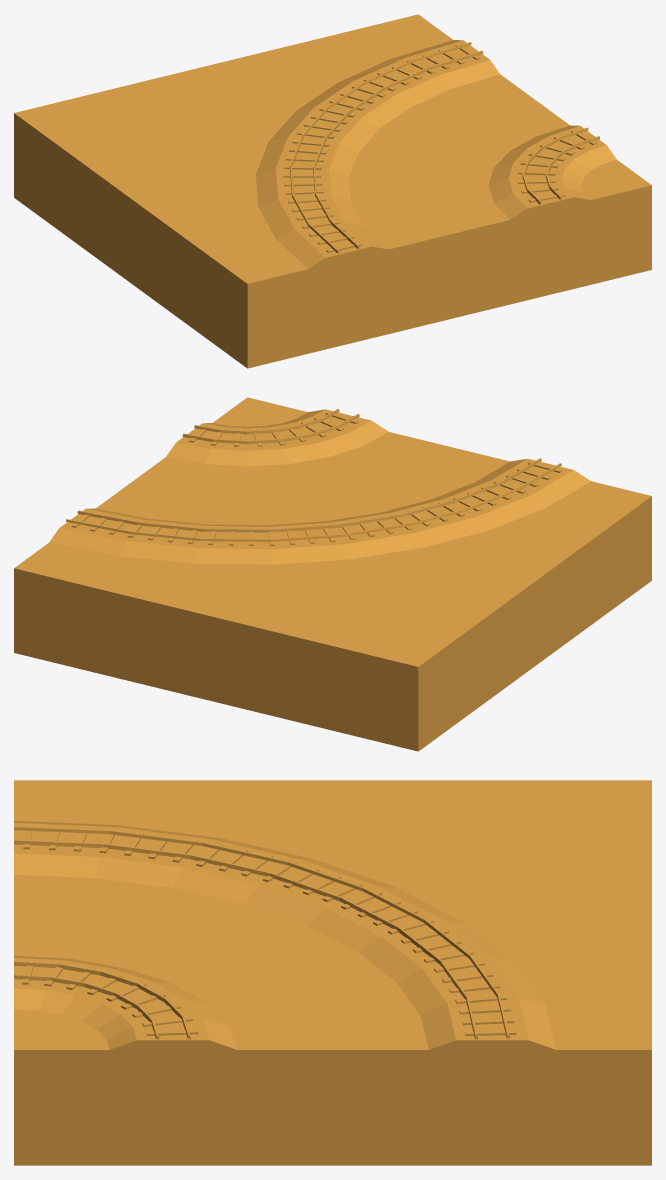
The model's file is tile-rail-curve-double.glb.
3 renders of one model, top to bottom at view 1: azimuth 30°, elevation 25°; view 2: azimuth 150°, elevation 25°; view 3: azimuth 270°, elevation 25°, orthographic. The views are drawn at different scales.
Parts seen in each view (by area): view 1: tile-rail-curve-double; view 2: tile-rail-curve-double; view 3: tile-rail-curve-double.
Part boxes in pixels (x1=…): tile-rail-curve-double: x1=14, y1=14, x2=651, y2=368; tile-rail-curve-double: x1=14, y1=397, x2=651, y2=751; tile-rail-curve-double: x1=14, y1=780, x2=651, y2=1165.
Bounding box in the file's own units: 30 × 6.75 × 30.
